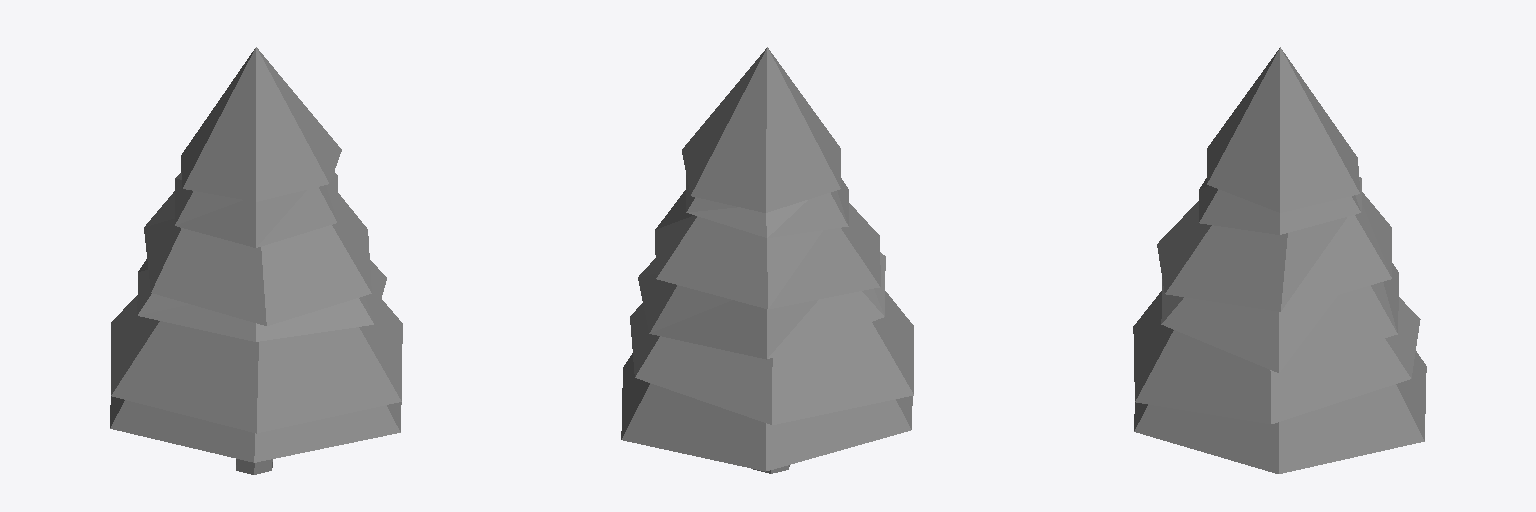
File: tree2.obj
The picture shows the model from 3 angles: view 1: azimuth 30°, elevation 25°; view 2: azimuth 150°, elevation 25°; view 3: azimuth 270°, elevation 25°; orthographic projection.
Parts seen in each view (by area): view 1: Cone001; view 2: Cone001; view 3: Cone001.
Boxes of the visible parts, <box> form: Cone001: <box>110,47,402,474</box>; Cone001: <box>621,47,913,473</box>; Cone001: <box>1133,47,1426,473</box>.
Size of the model in its own units: 39.55 by 54.21 by 34.46.